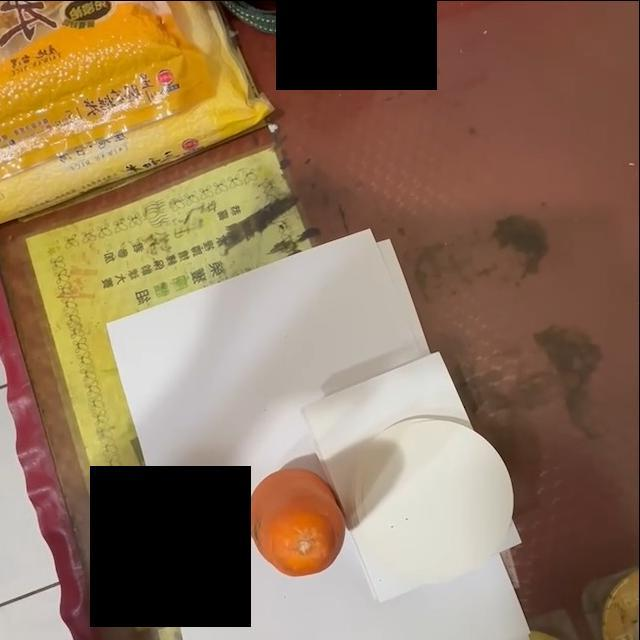carrot: (246, 466, 344, 577)
